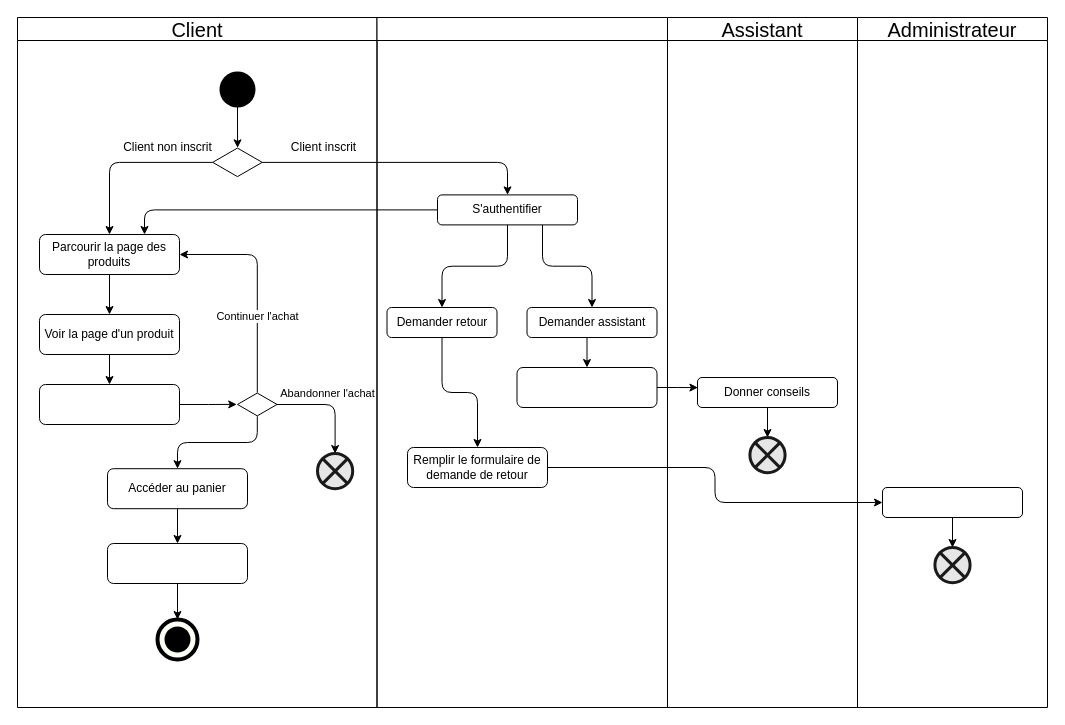
This 1065x725 diagram has some shape labels left out. The box of each missing label's shape, as (x1, y1, x2, y2) in pixels:
Ajouter le produit au panier: (38, 384, 180, 424)
Client VIP: (376, 16, 668, 708)
Commander les produits: (106, 542, 248, 584)
Consulter la demande: (882, 486, 1022, 518)
Remplir le formulaire de demande d'assistant: (516, 366, 657, 408)
